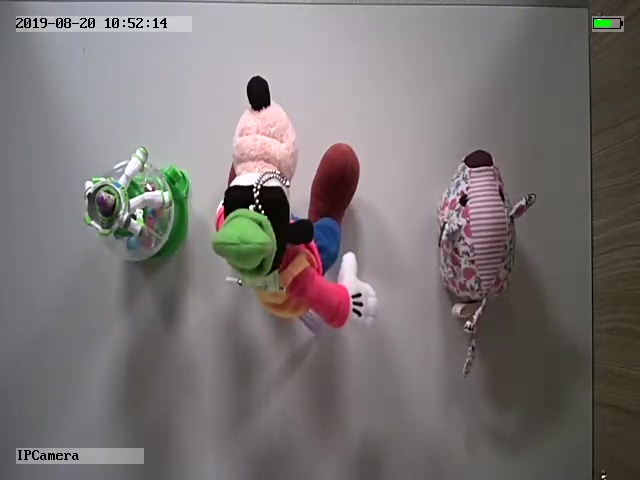buzz: (81, 144, 193, 267)
goofy: (207, 73, 381, 335)
pig: (432, 148, 535, 377)
